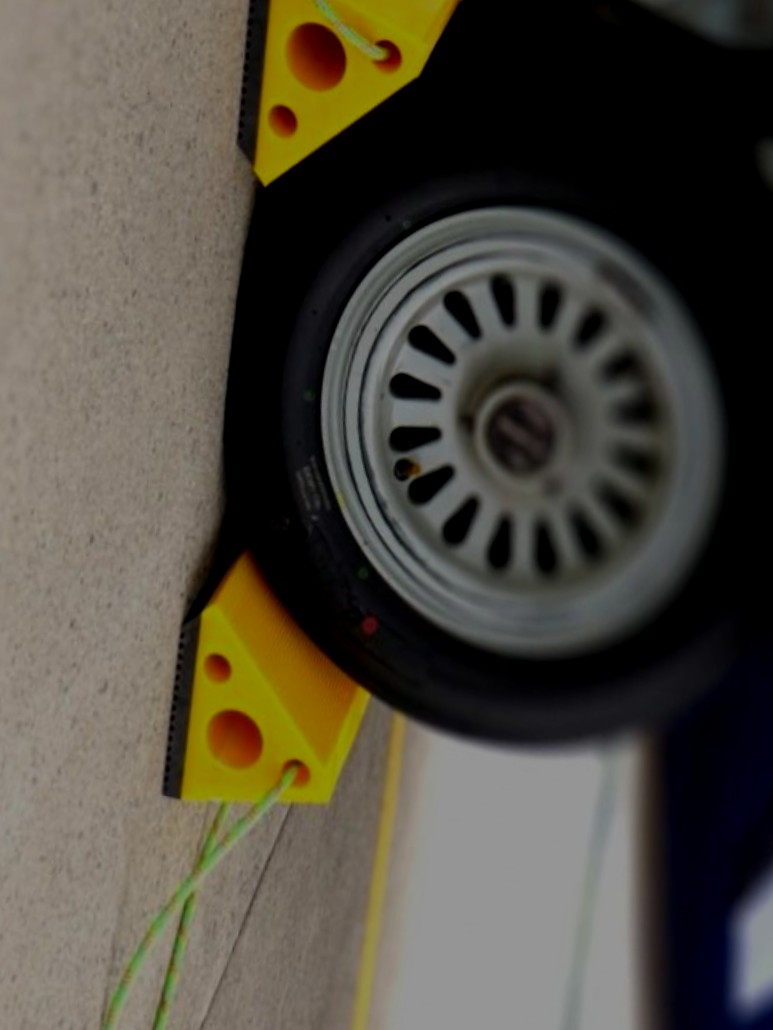chock: (149, 517, 397, 848), (211, 0, 494, 246)
wheel: (168, 0, 773, 816)
